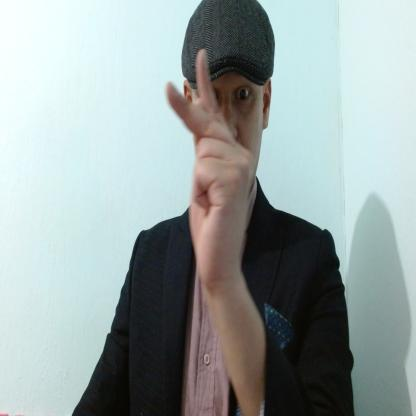P: (165, 47, 255, 286)
